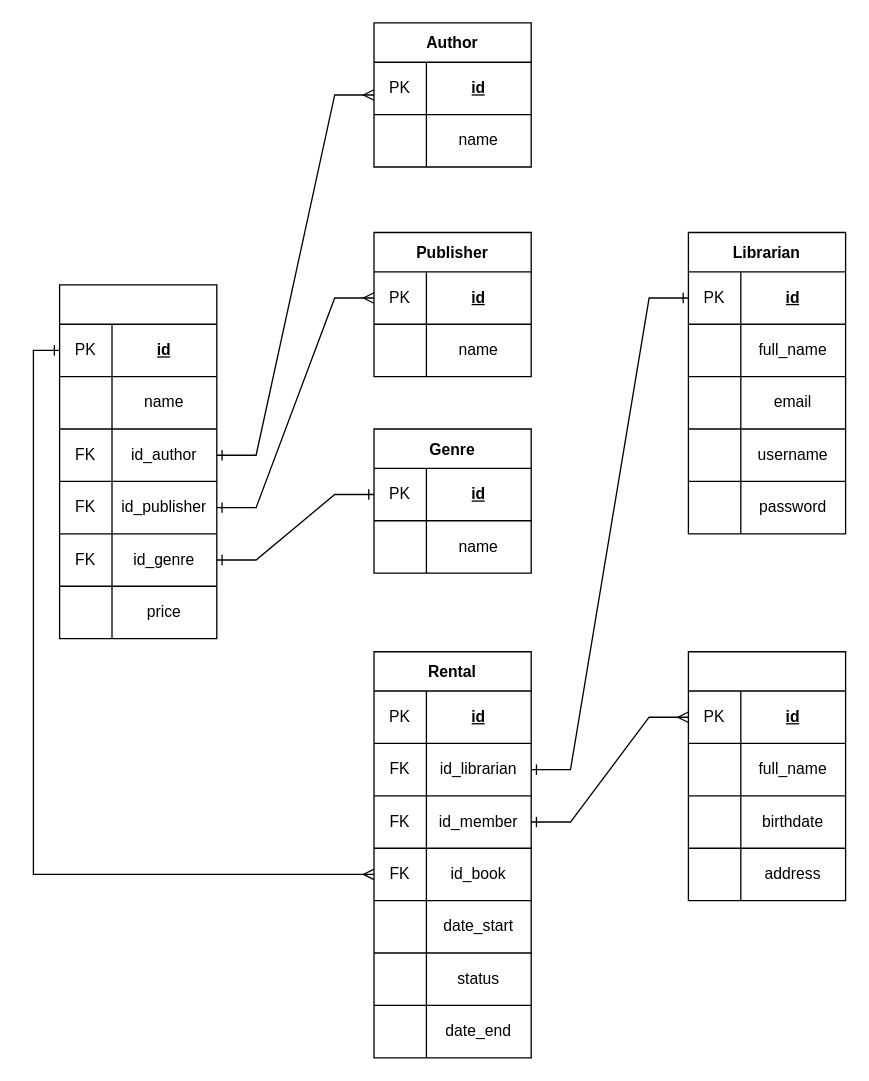
Some shapes in this 869 by 1081 pixel diagram are drawn without their labels. Each missing label, with the box of its shape:
Book: (58, 284, 217, 639)
Member: (687, 650, 846, 901)
